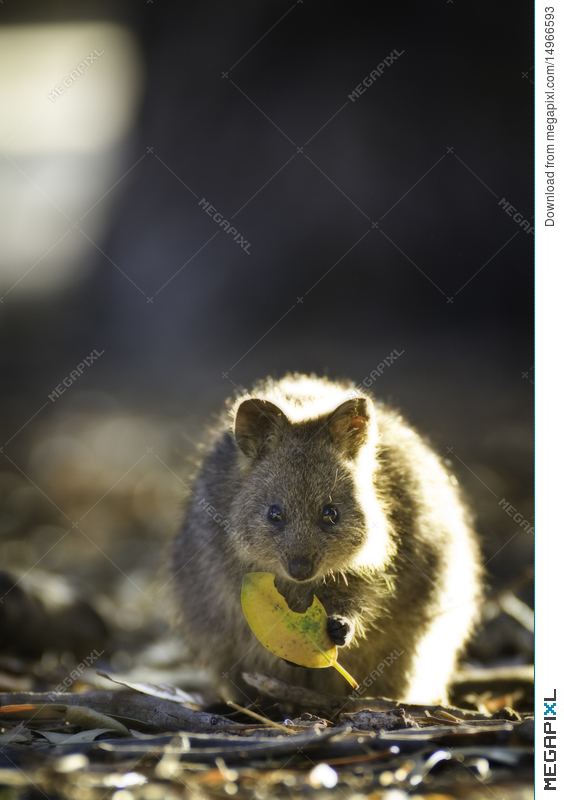quokka: (136, 363, 497, 771)
